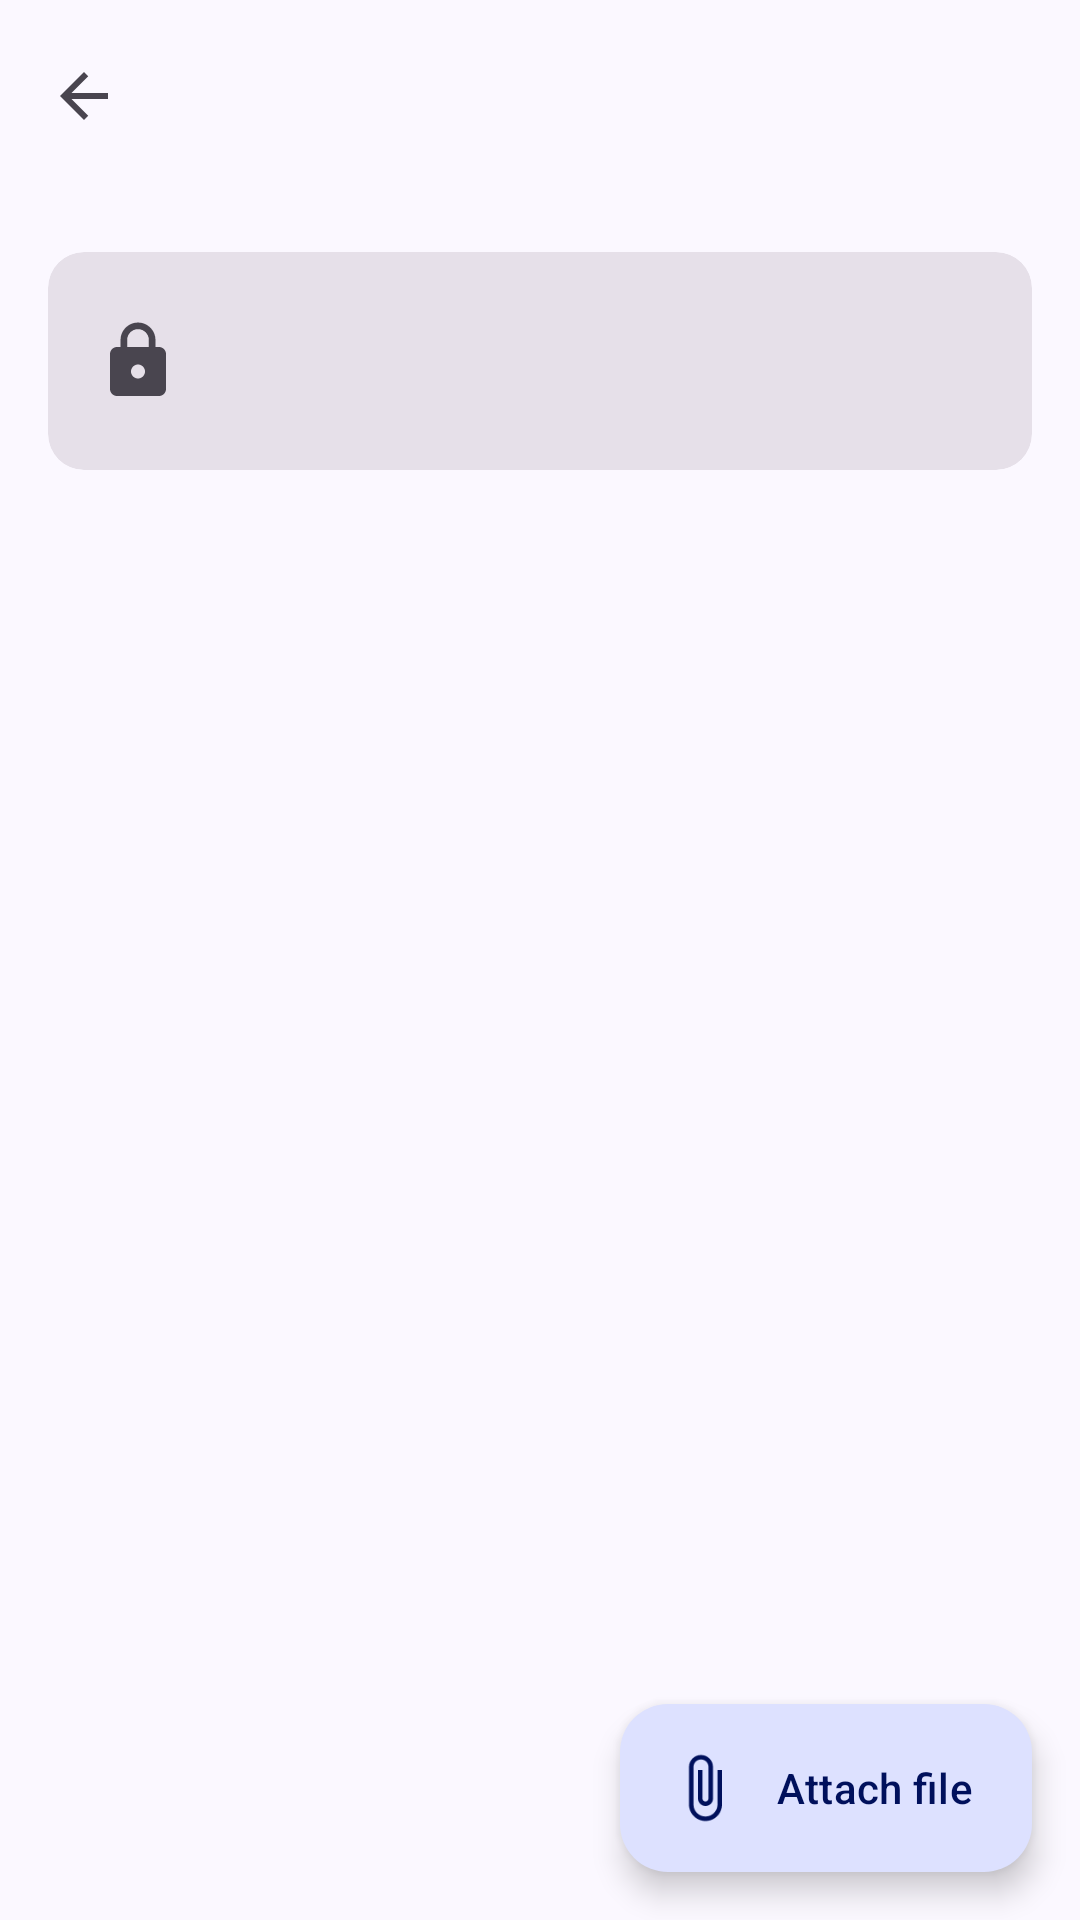

Icons on this 1080×1920 Android screen, each with the point to tap as (x=x, y=y):
lock: (x=138, y=359)
